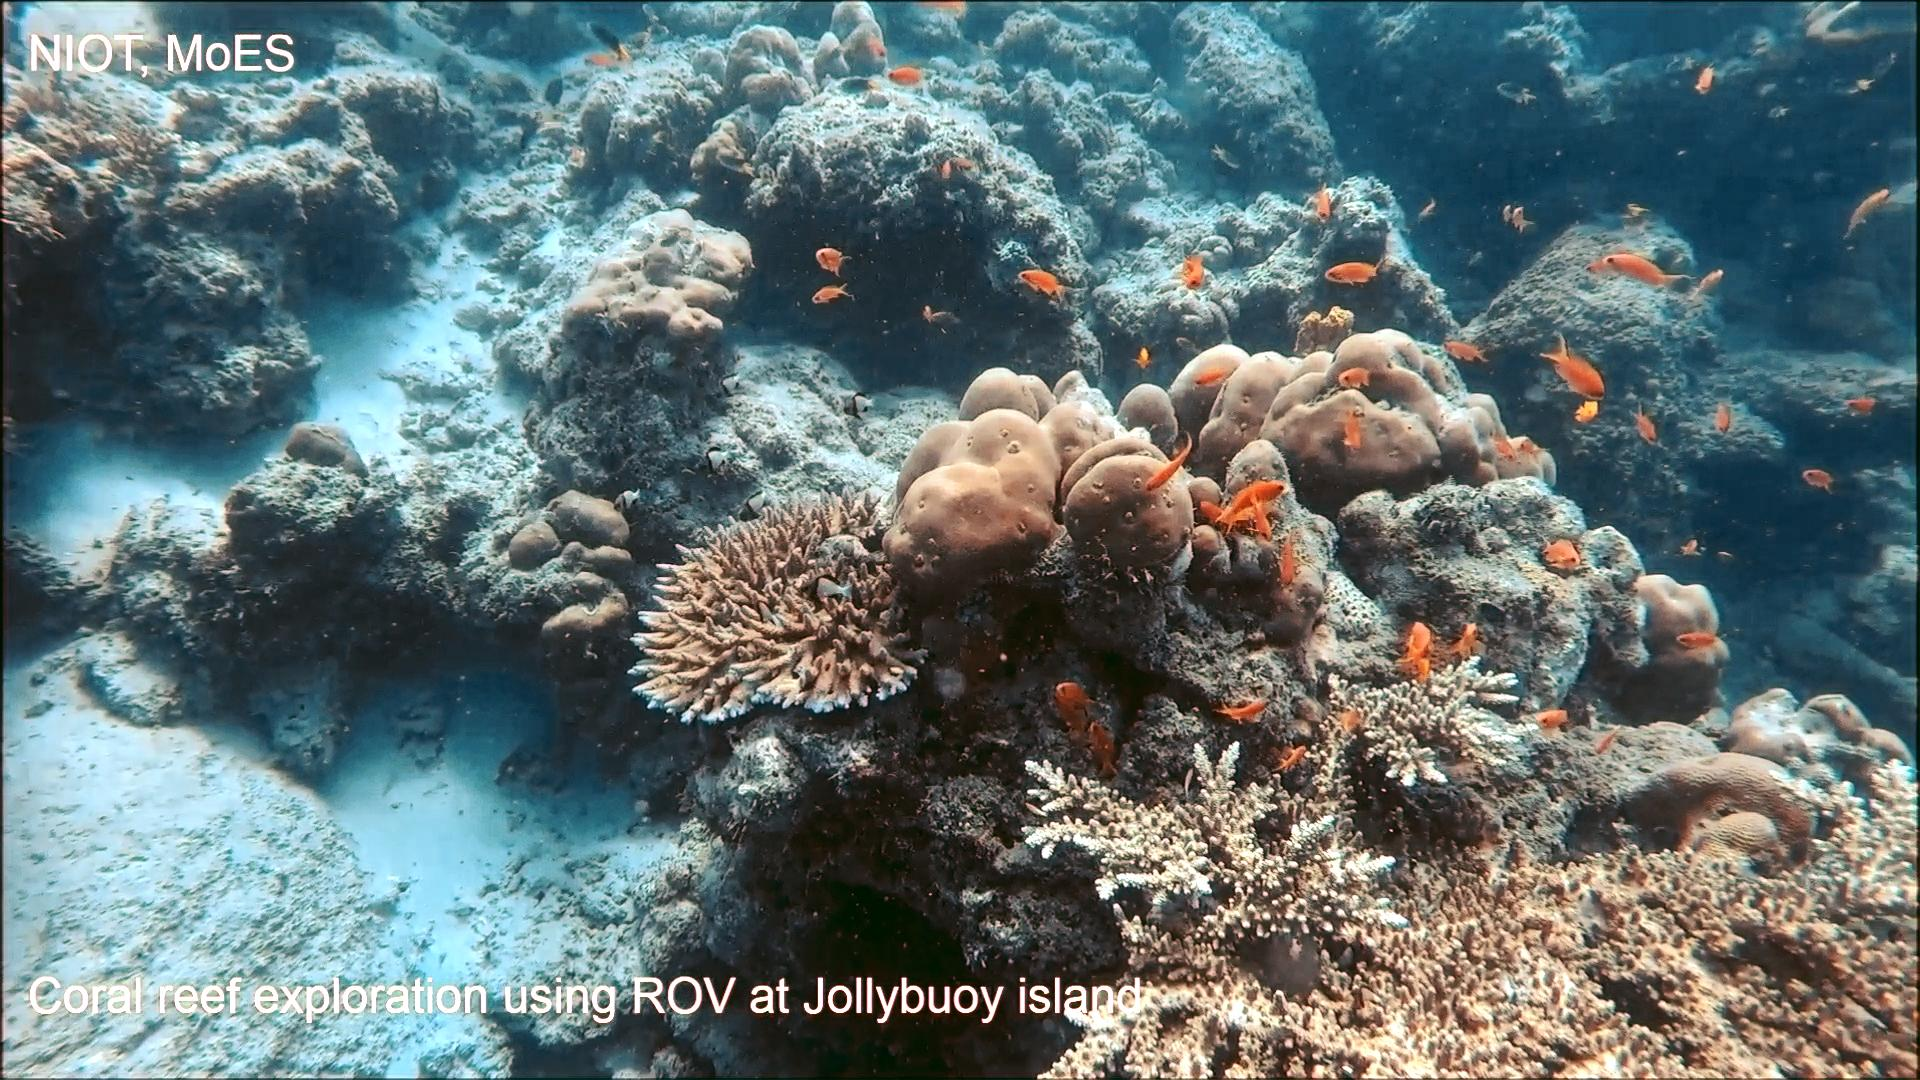Porites-Porites pukoensis: (876, 362, 1200, 609), (1150, 320, 1565, 509)
